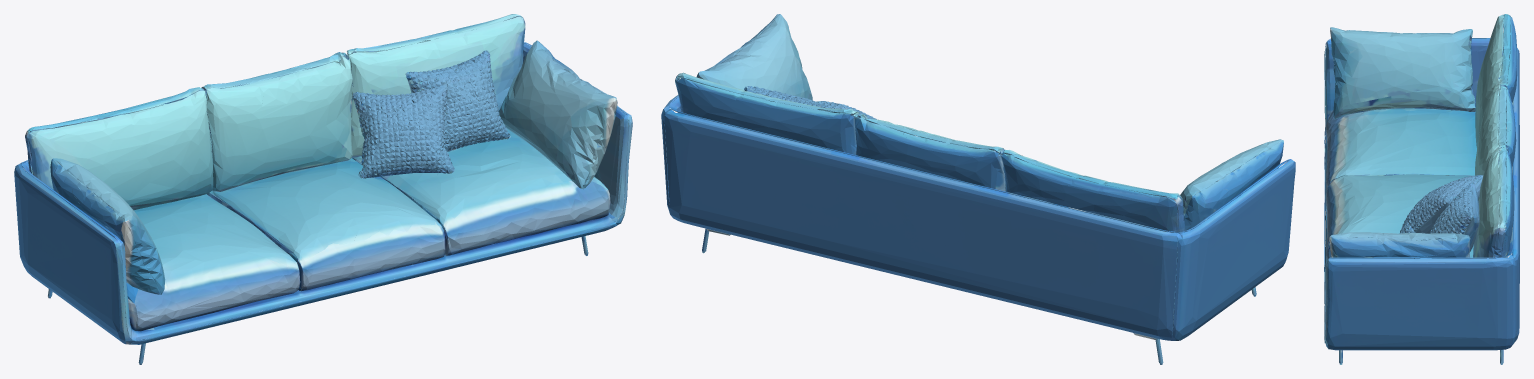
File: edited_mesh.glb
3 views of the same model, side by side, from view 1: azimuth 30°, elevation 25°; view 2: azimuth 150°, elevation 25°; view 3: azimuth 270°, elevation 25° (orthographic). The views are drawn at different scales.
Visible parts, largest first — view 1: solid_001_wire; view 2: solid_001_wire; view 3: solid_001_wire.
Part boxes in pixels (x1,y1,x2,y2): solid_001_wire: (14, 14, 632, 364); solid_001_wire: (661, 14, 1295, 364); solid_001_wire: (1324, 14, 1519, 364).
Bounding box in the file's own units: 2 × 0.6387 × 0.7369.
Materials: 1 (1 with a texture image).
